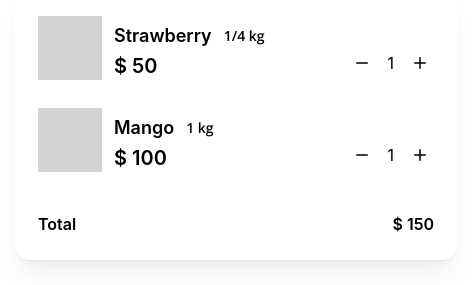
Test case: PreviewCart › if there are multiple items, the total amount is calculated correctly when the quantity is increased
The width and height of the screenshot is (473, 285).
expect the text "$ 150" is shown: met, box x1=392 y1=212 x2=434 y2=236
What coordinates should you click on to do the following:
click the button named "increment" below "Strawberry"
I would click on:
 (420, 63)
Its box is x1=406 y1=49 x2=434 y2=77.
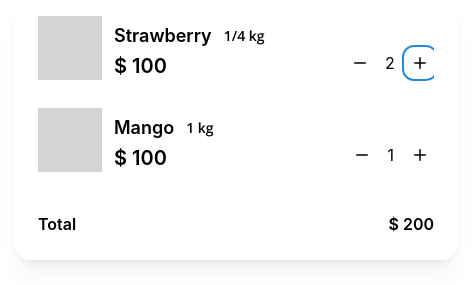
expect the text "$ 200" is shown: met, box x1=388 y1=212 x2=434 y2=236
